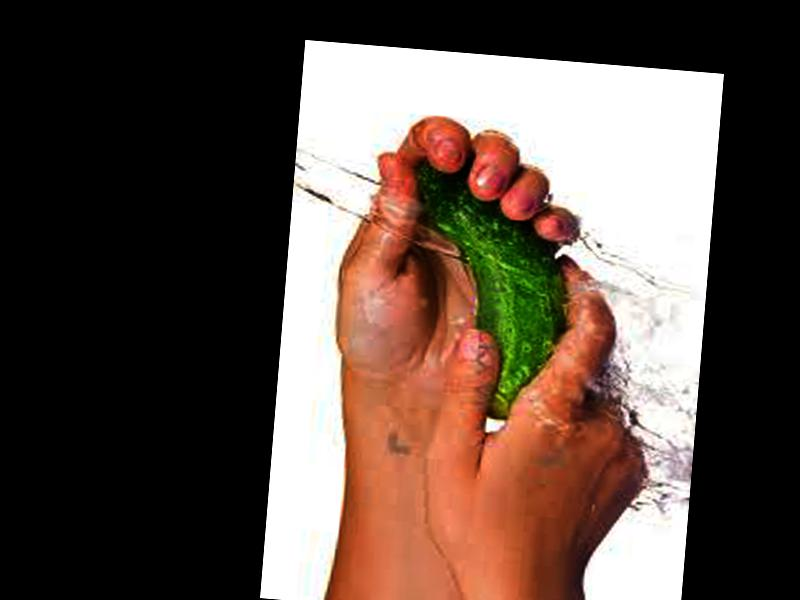Cucumber: (397, 159, 580, 426)
